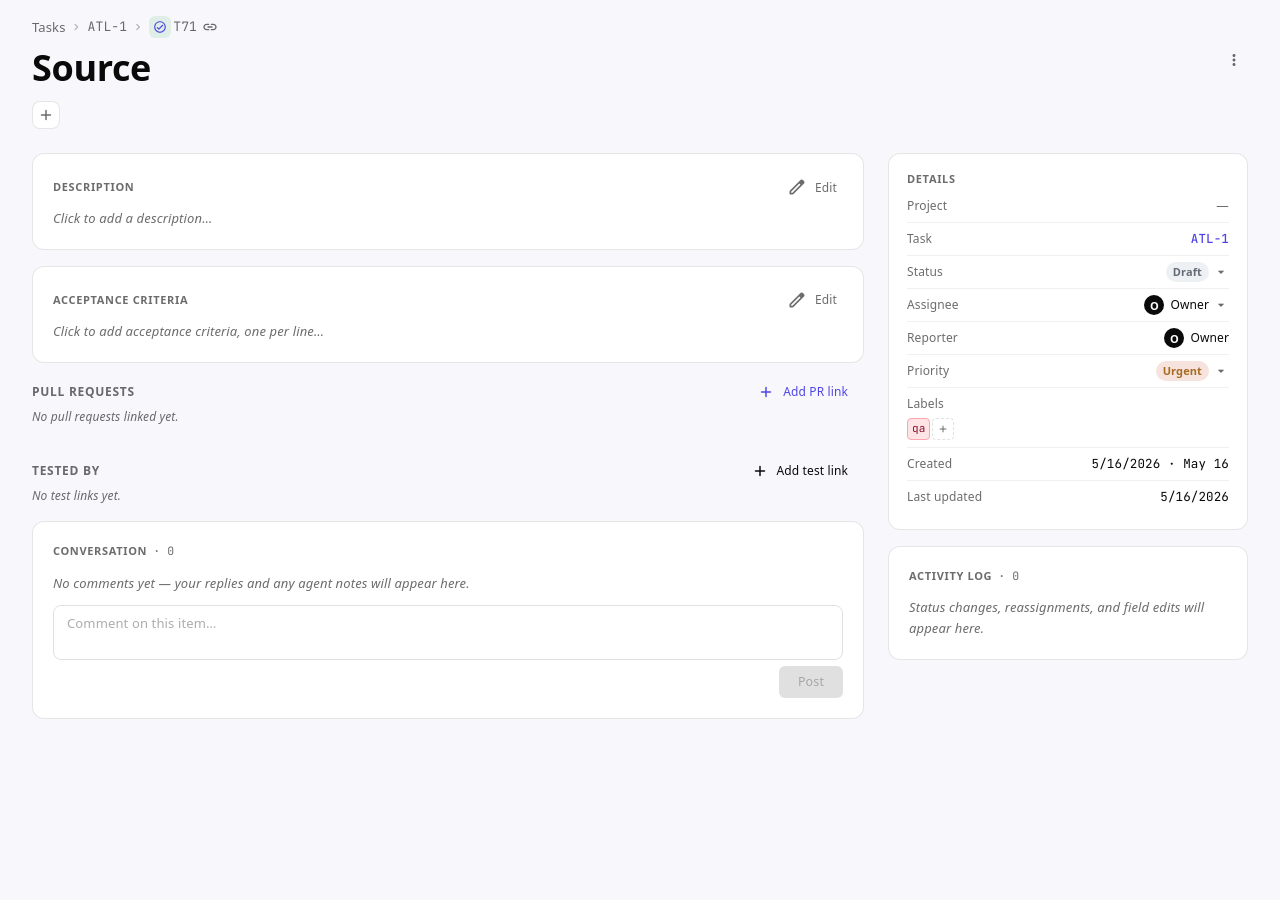
Test: SubTaskDetail page › clones under the same task, links back to the source, and opens the copy
Check: the heading "Source" is shown, box [32,46,151,89]
What coordinates should you click on to do the following:
click the button named "Sub-task actions"
I would click on:
 (1234, 60)
Its box is [1220,46,1248,74].
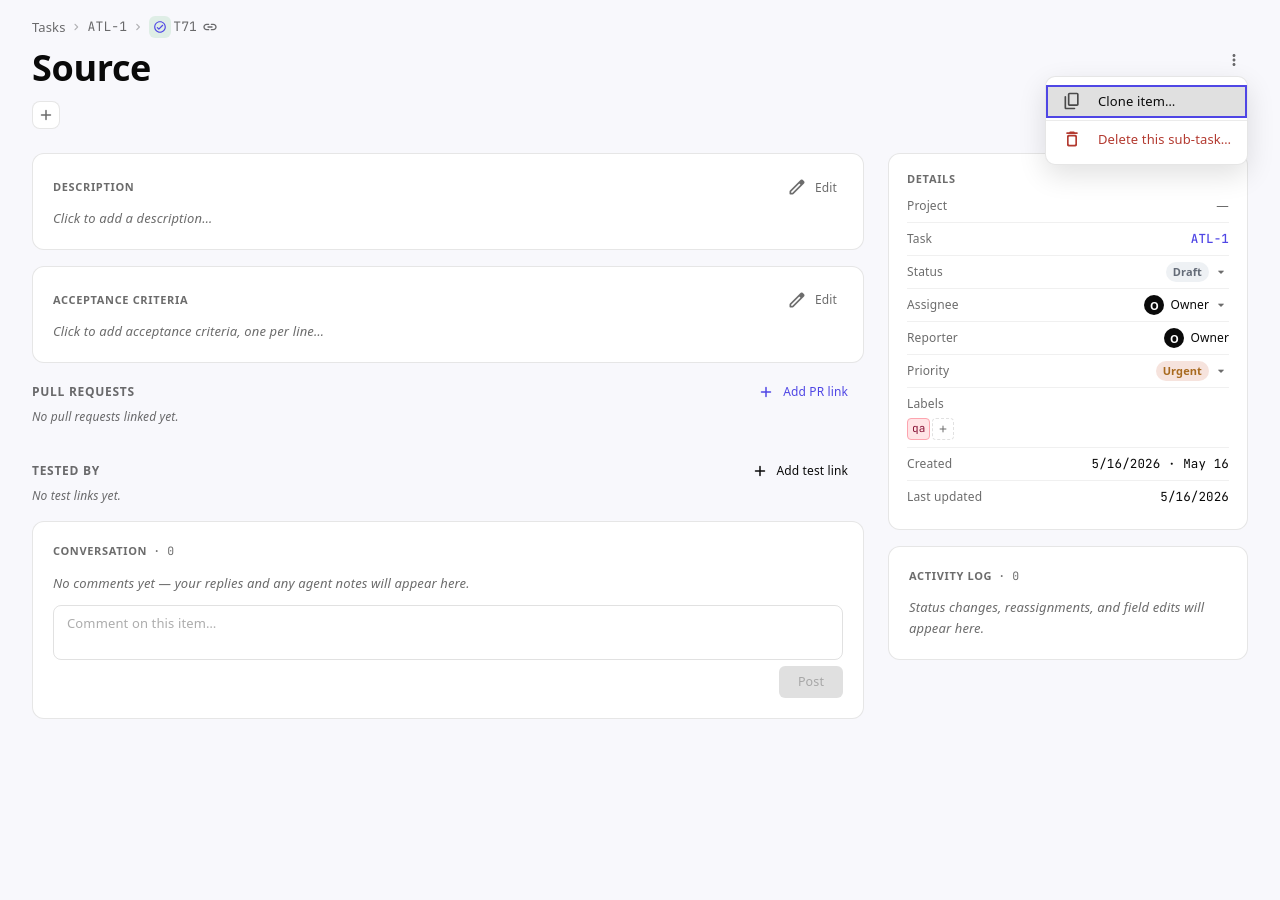
What coordinates should you click on to do the following:
click the menu item "Clone item…"
I would click on:
 (1147, 101)
Its box is [1046,85,1247,118].
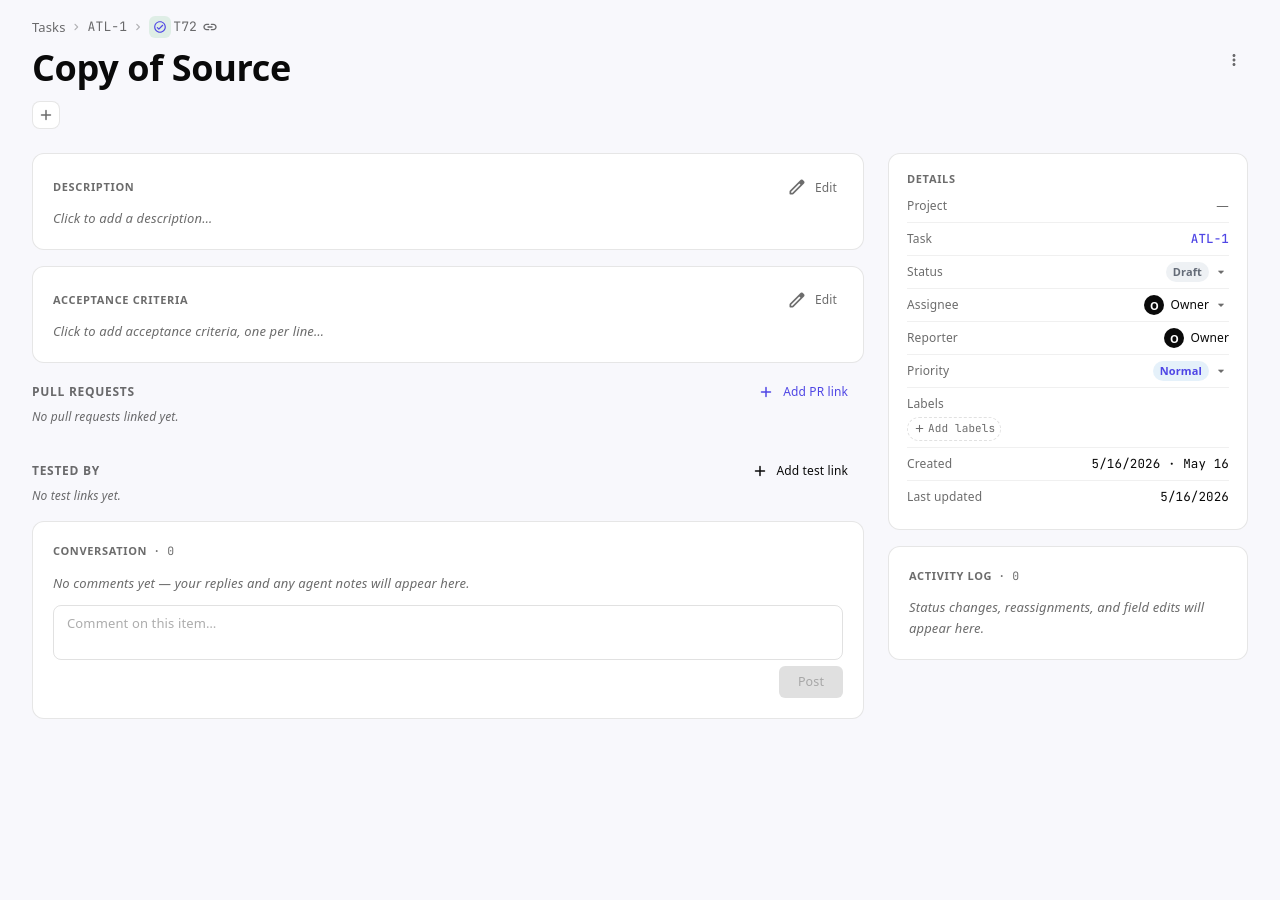
Check: the heading "Copy of Source" is shown, box [32,46,291,89]
